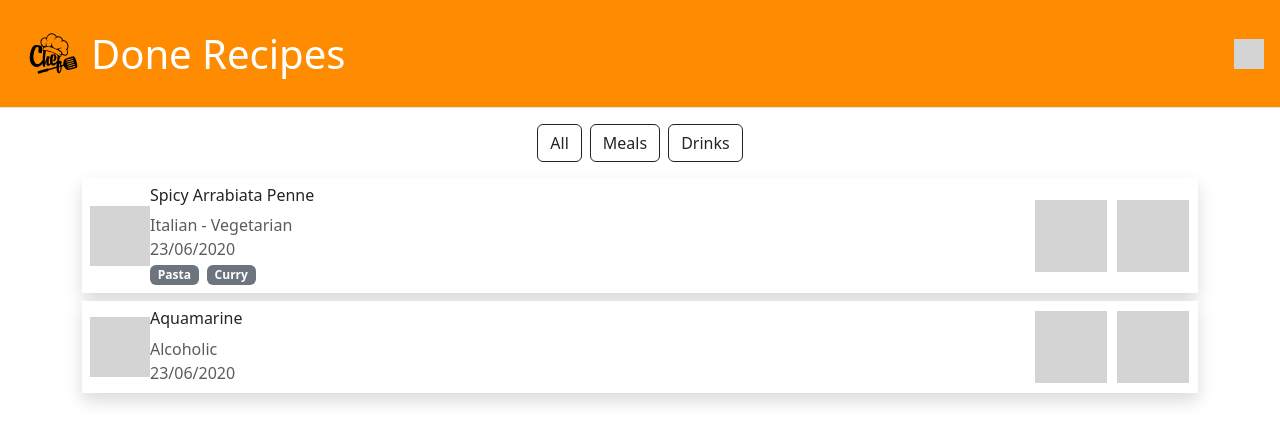
Test case: Testa a pagina DoneRecipes › Ao clicar no botão "All", o filtro deve ser removido
Step 1. Click the button with test id "filter-by-meal-btn" → (625, 143), box [590,124,660,162]
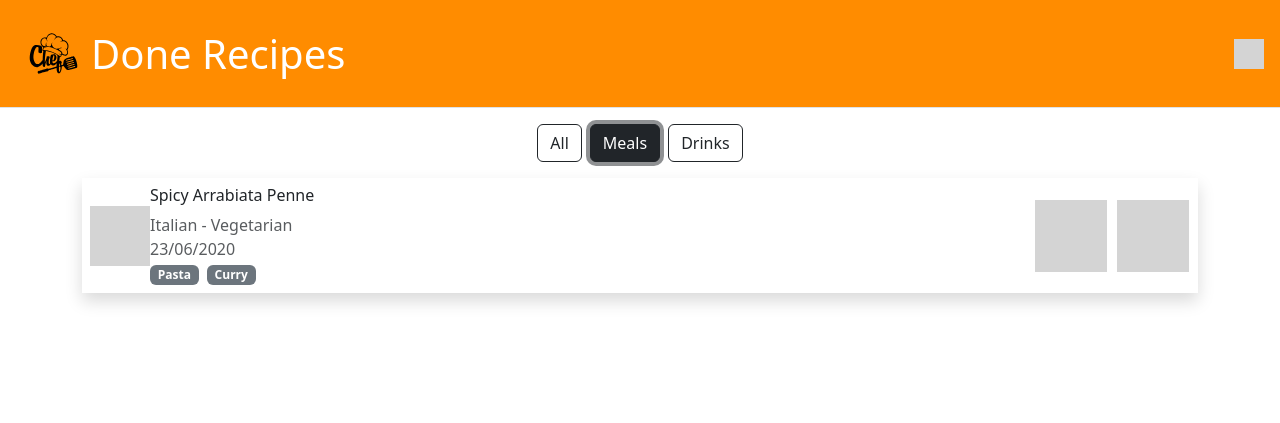
Step 2. Click the button with test id "filter-by-all-btn" → (560, 143), box [537,124,582,162]
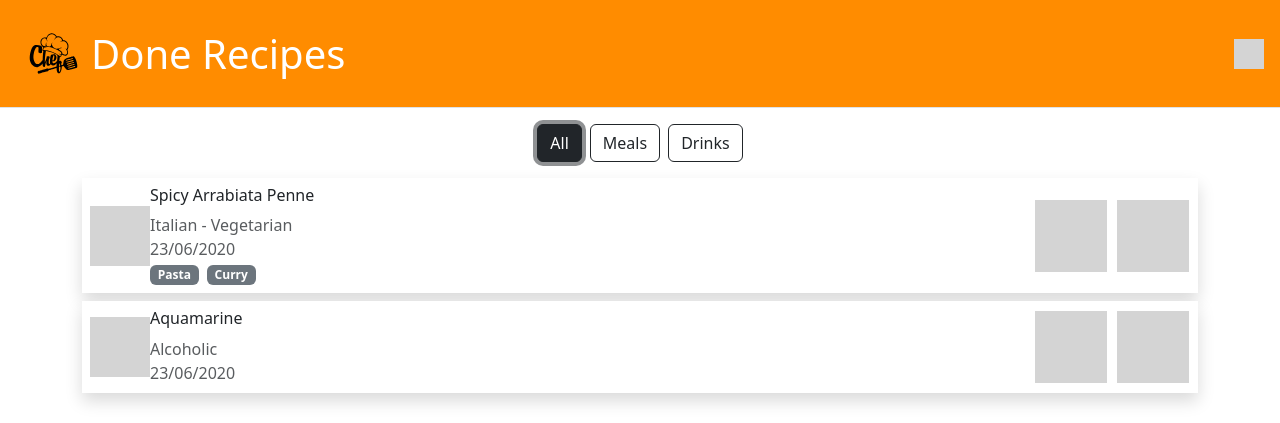
Expected: the heading with test id "0-horizontal-name" reads "Spicy Arrabiata Penne", [150,184,314,206]
Result: the heading with test id "1-horizontal-name" reads "Aquamarine" at [150,307,242,329]
